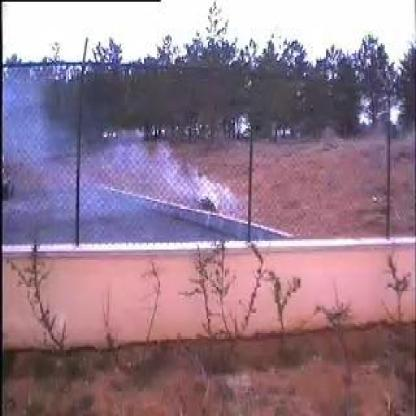-: (35, 81, 226, 212)
